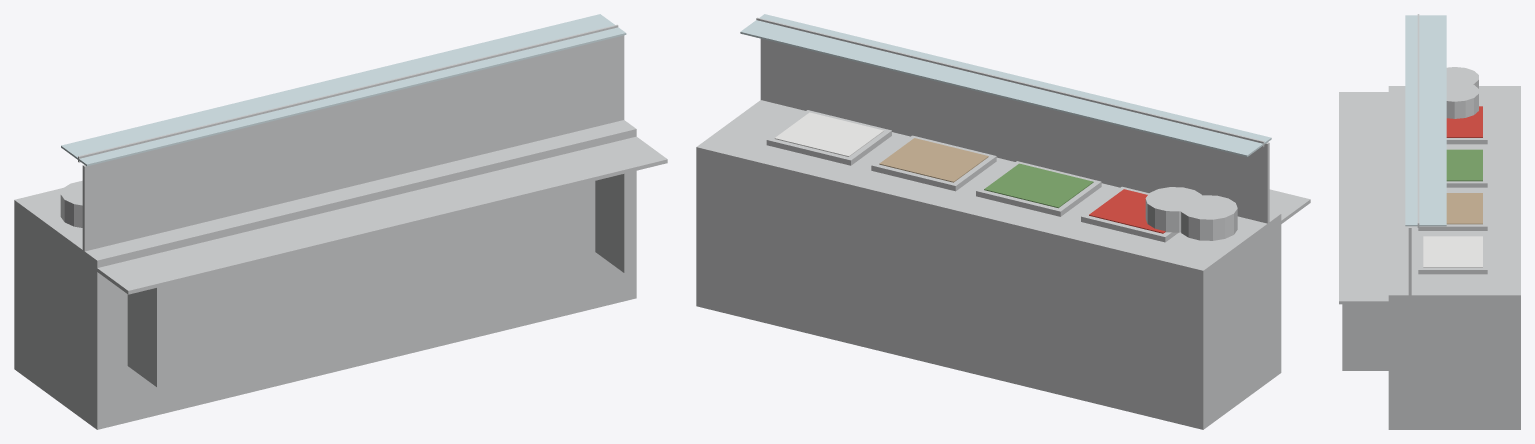
Rendered from Serving_Counter.fbx.
The picture shows the model from 3 angles, left to right: view 1: azimuth 30°, elevation 25°; view 2: azimuth 150°, elevation 25°; view 3: azimuth 270°, elevation 25°; orthographic projection. The views are drawn at different scales.
Visible parts, largest first — view 1: Serving_Counter; view 2: Serving_Counter; view 3: Serving_Counter.
Boxes of the visible parts, x1,y1,x2,y2 form: Serving_Counter: (14,14,667,429); Serving_Counter: (696,14,1310,429); Serving_Counter: (1339,14,1520,429).
Bounding box in the file's own units: 3 × 1.38 × 1.1.
